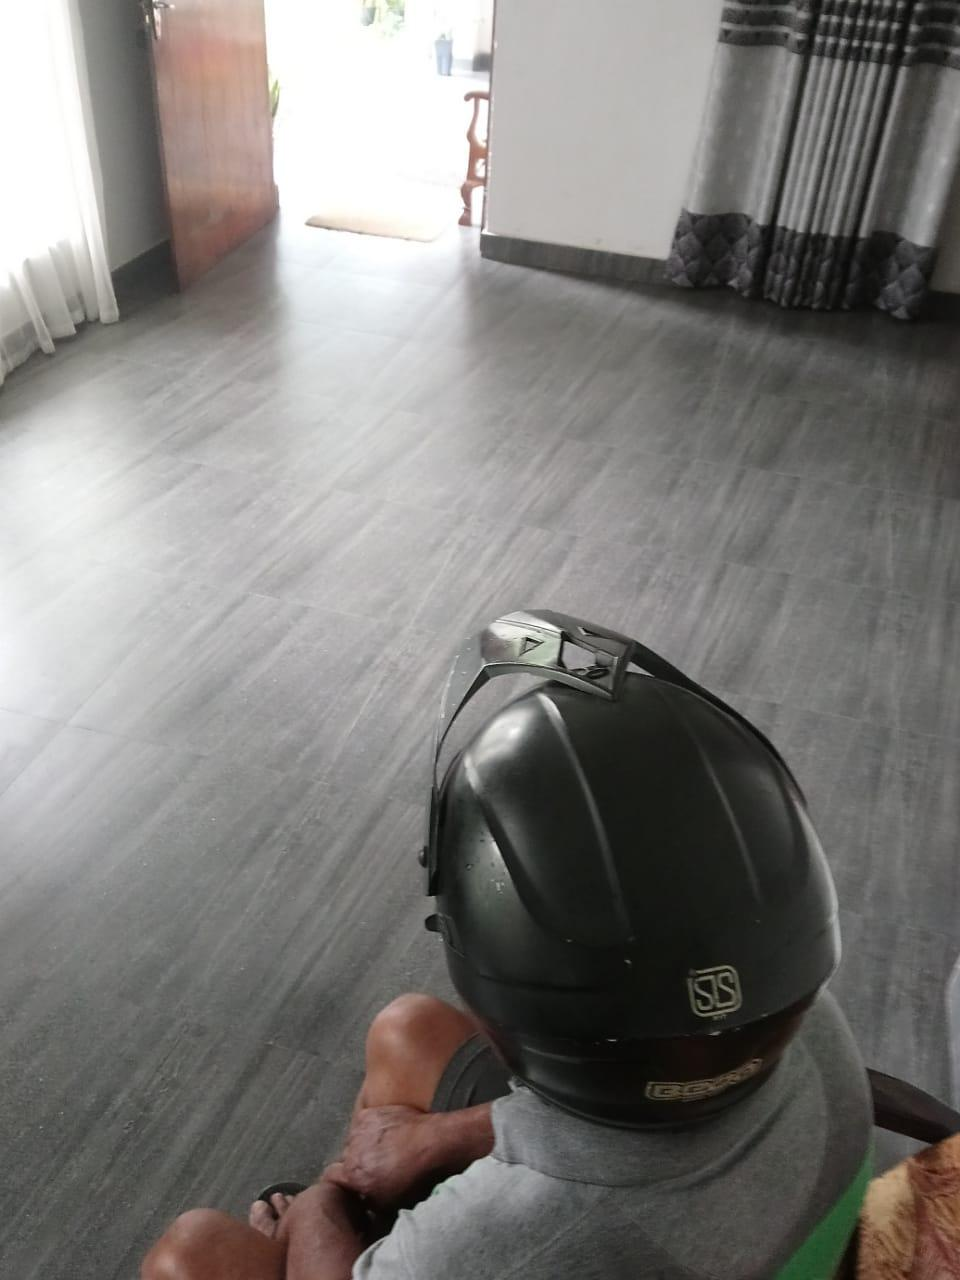helmet: (417, 607, 842, 1138)
